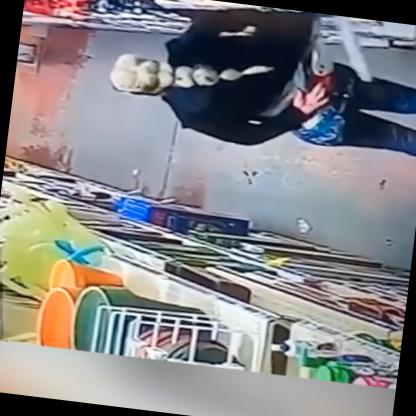Human Body: (96, 0, 415, 170)
